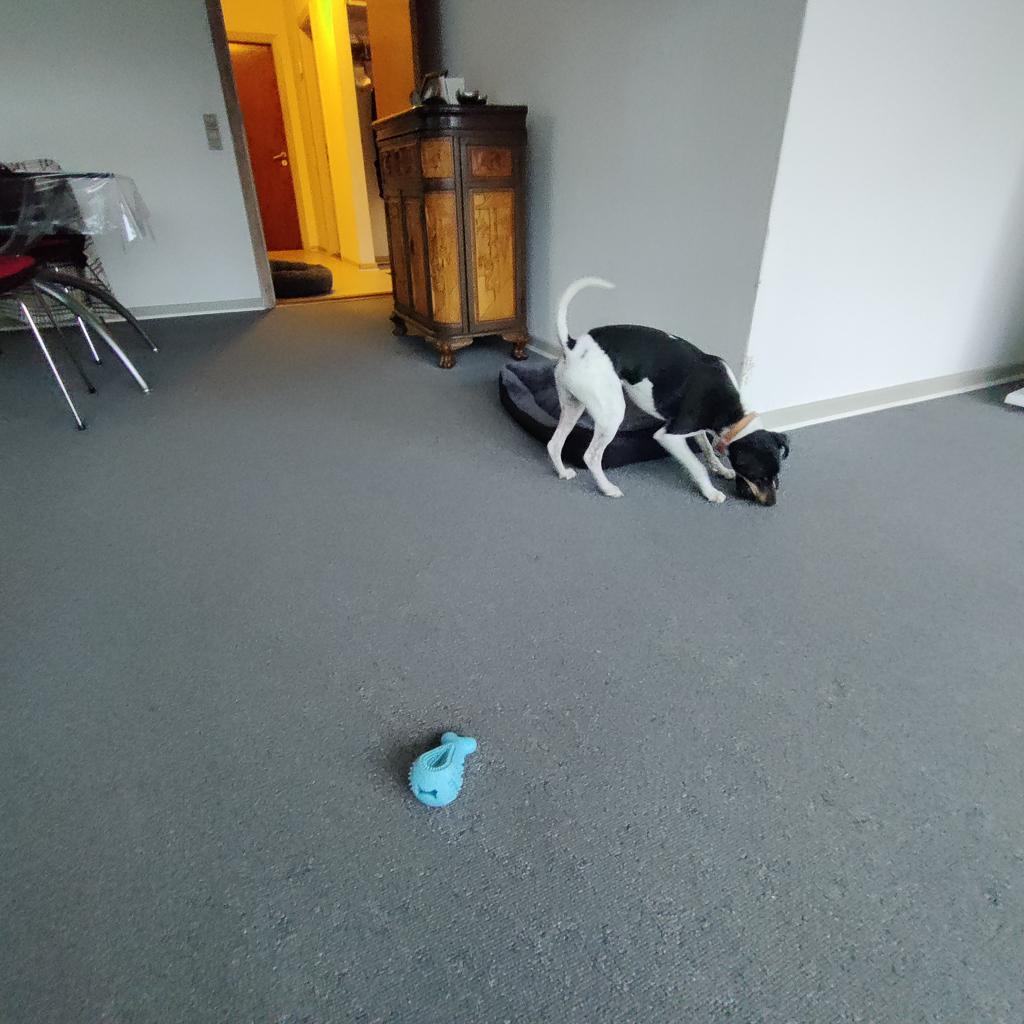Dog: (530, 266, 804, 531)
